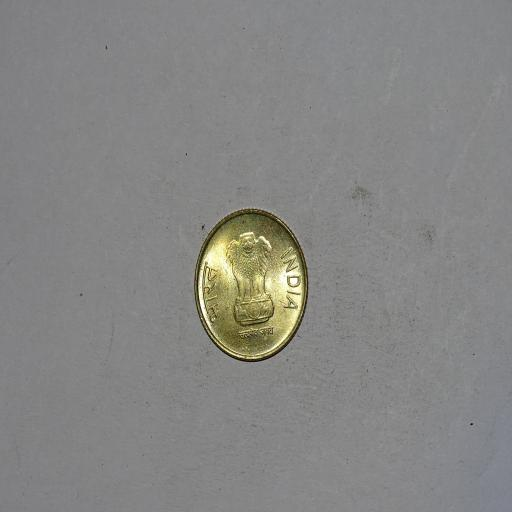rupee5: (190, 206, 312, 368)
